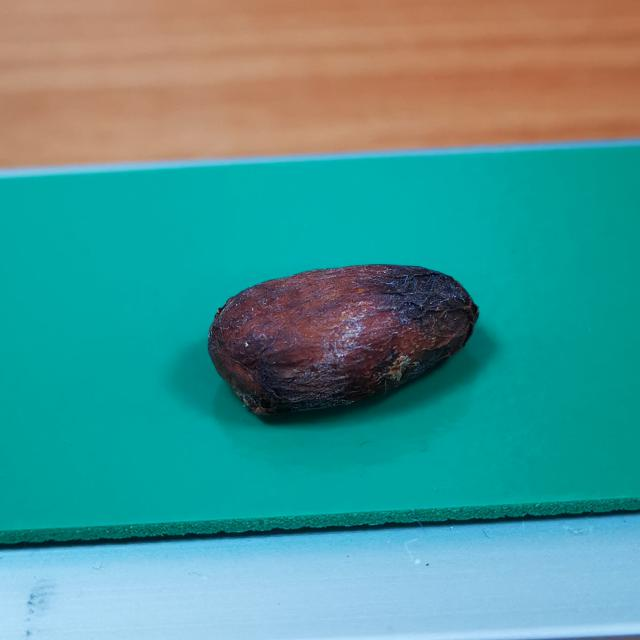Fine_cocoabeans: (75, 186, 639, 491)
